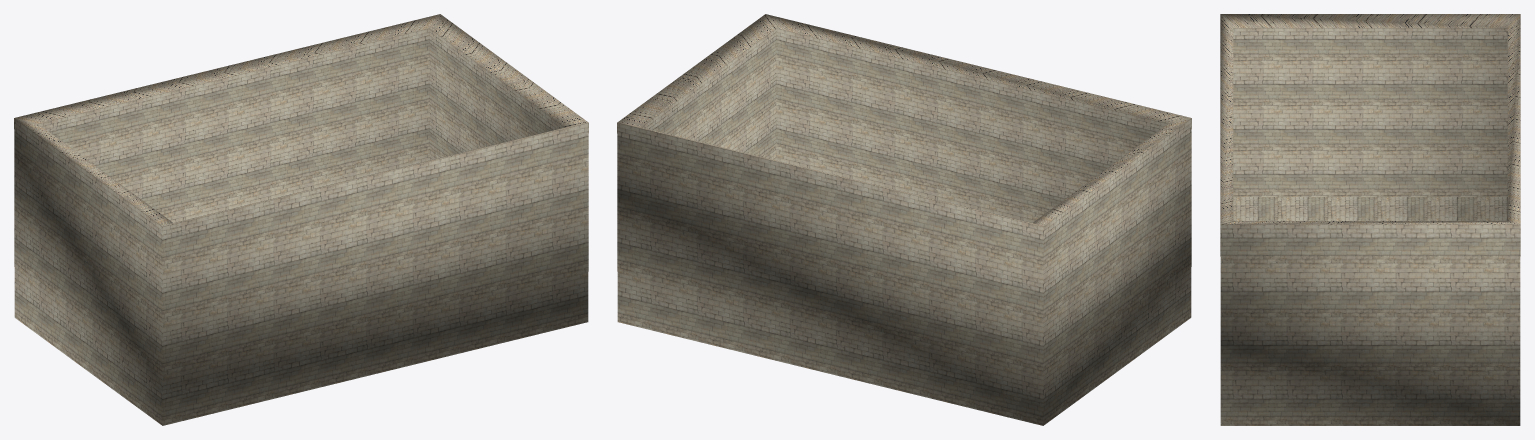
Rendered from sponza_outerCube.dae.
3 renders of one model, left to right at view 1: azimuth 30°, elevation 25°; view 2: azimuth 150°, elevation 25°; view 3: azimuth 270°, elevation 25°, orthographic.
Parts seen in each view (by area): view 1: sponza_379; view 2: sponza_379; view 3: sponza_379.
Part boxes in pixels (<box>): sponza_379: <box>14,14,588,425</box>; sponza_379: <box>617,14,1191,425</box>; sponza_379: <box>1220,14,1520,425</box>.
Size of the model in its own units: 52.13 by 31.43 by 23.32.
Materials: 1 (1 with a texture image).
